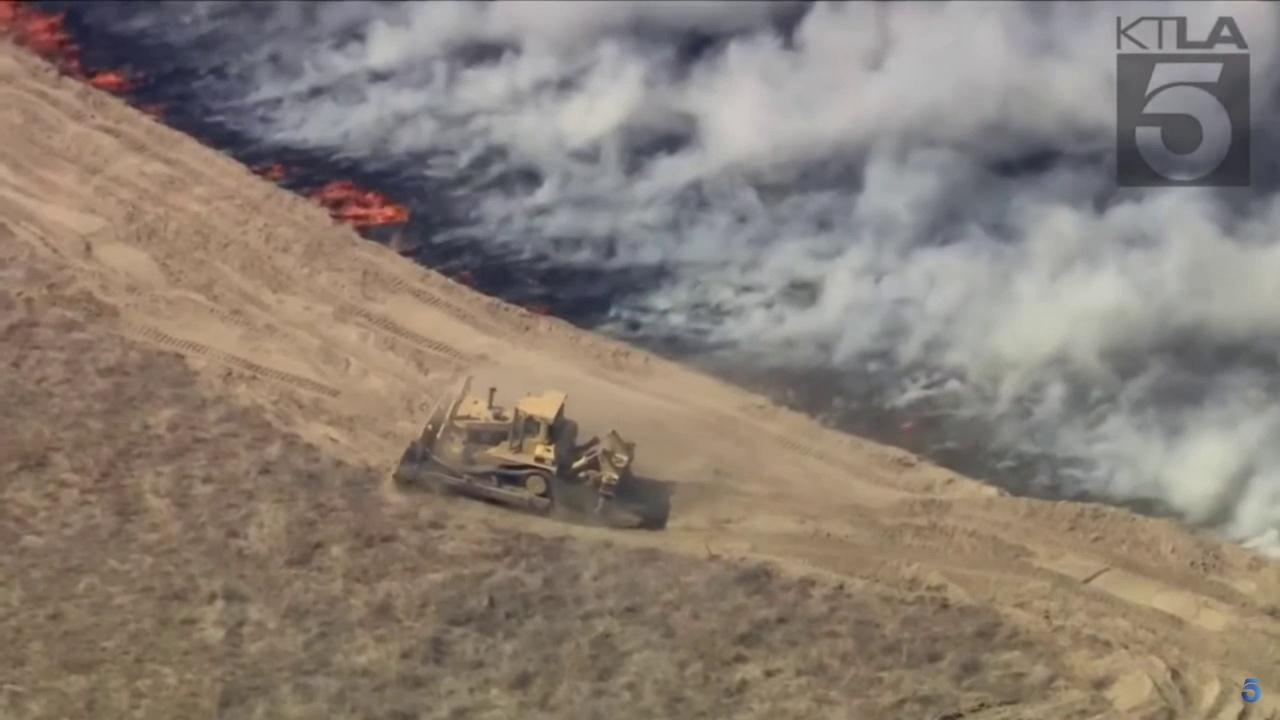fire: (0, 0, 140, 97), (306, 176, 412, 227), (253, 160, 291, 181)
smoke: (0, 0, 1280, 564)
